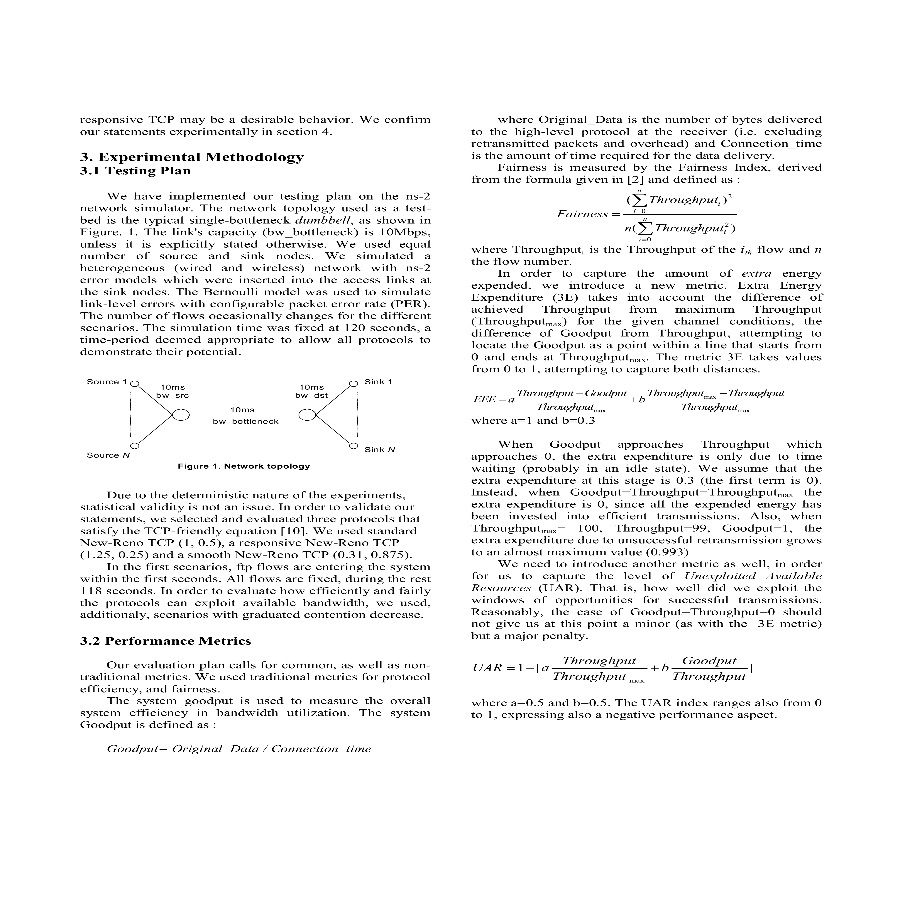eq: (472, 651, 759, 688), (556, 188, 746, 240), (104, 740, 376, 756)
